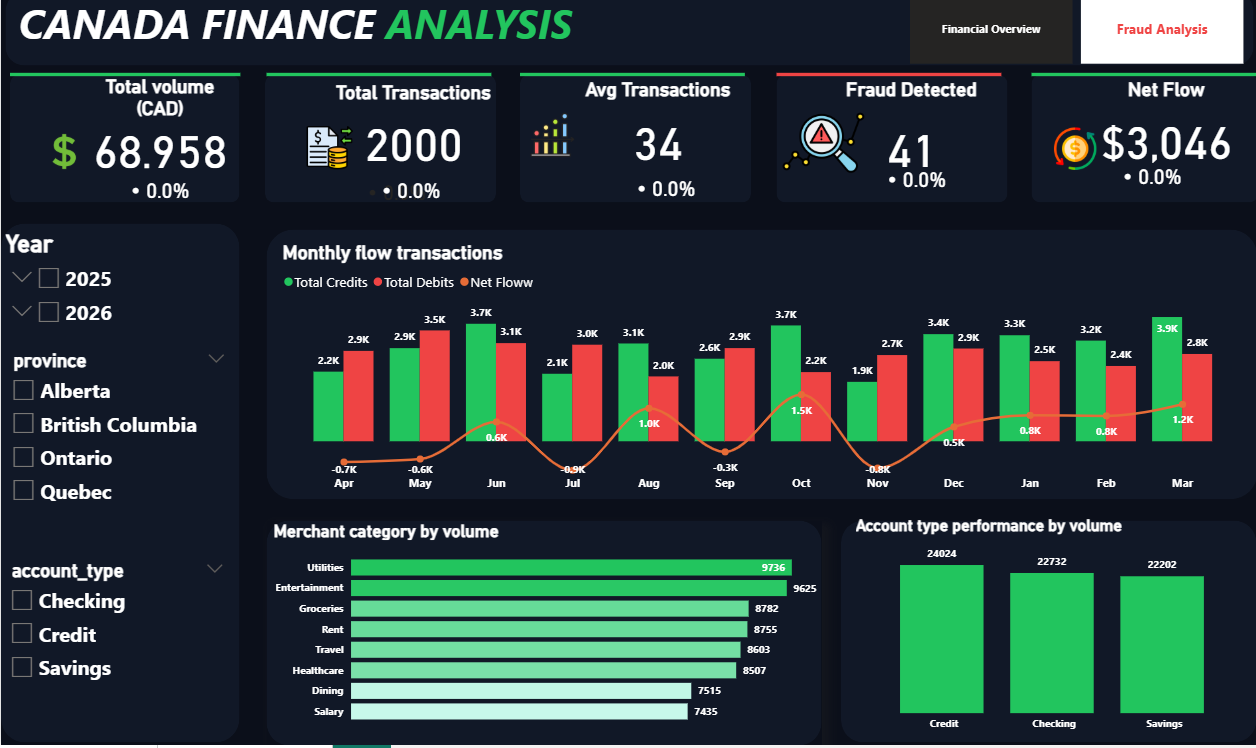

The page's visual inventory and layout, read from the dashboard file:
{"tool":"powerbi","page":{"name":"Financial Overview","canvas":[1500,900],"ordinal":0},"visuals":[{"type":"shape","box":[1002.7,632,496,265],"z":0},{"type":"shape","box":[316.9,632,662.5,268.6],"z":1000},{"type":"shape","box":[316.1,284.3,1183,322.1],"z":2000},{"type":"shape","box":[1230.1,100.3,270.4,152.2],"z":3000},{"type":"shape","box":[925.7,100.3,275.7,152.2],"z":4000},{"type":"shape","box":[619.5,100.3,275.7,152.2],"z":5000},{"type":"shape","box":[315.1,100.3,275.7,152.2],"z":6000},{"type":"shape","box":[10.7,100.3,273.9,152.2],"z":7000},{"type":"shape","box":[6.1,2,1489.7,87],"z":8000},{"type":"textbox","box":[15.9,0,1469.3,87.5],"z":9000},{"type":"card","title":"Total volume (CAD)","fields":{"Values":["public transactions.Total Volume"]},"box":[94.9,100.3,189.8,116.4],"z":10000},{"type":"card","title":"Total Transactions","fields":{"Values":["public transactions.Total Transactions"]},"box":[393.7,107.4,196.8,111.3],"z":11000},{"type":"card","title":"Avg Transactions","fields":{"Values":["public transactions.Avg Transaction"]},"box":[676,103.4,214.7,117.3],"z":12000},{"type":"card","title":"Fraud Detected","fields":{"Values":["public transactions.Fraud Detected"]},"box":[980.2,103.4,214.7,133.2],"z":13000},{"type":"card","title":"Net Flow","fields":{"Values":["public transactions.Net Floww"]},"box":[1284.4,103.4,214.7,115.3],"z":14000},{"type":"clusteredBarChart","title":"Merchant category by volume","fields":{"Y":["public transactions.Total Volume"],"Category":["public transactions.merchant_category"]},"box":[320.5,632,662.5,252.5],"z":15000},{"type":"clusteredColumnChart","title":"Account type performance by volume","fields":{"Y":["public transactions.Total Volume"],"Category":["public transactions.account_type"]},"box":[1015.2,626.7,483.4,265],"z":16000},{"type":"shape","box":[310.2,103.4,262.5,13.9],"z":17000},{"type":"shape","box":[9.9,87.5,275,23.9],"z":18000},{"type":"shape","box":[316.1,87.5,268.4,23.9],"z":19000},{"type":"shape","box":[1230.7,87.5,268.4,23.9],"z":20000},{"type":"shape","box":[620.3,87.5,268.4,23.9],"z":21000},{"type":"shape","box":[926.5,87.5,268.4,23.9],"z":22000},{"type":"lineClusteredColumnComboChart","title":"Monthly flow transactions","fields":{"Y":["public transactions.Total Credits","public transactions.Total Debits"],"Y2":["public transactions.Net Floww"],"Category":["Date Table.FY Month Name"]},"box":[331.2,299,1156.7,308],"z":23000},{"type":"pageNavigator","box":[1085.6,2,399.6,85.5],"z":24000},{"type":"shape","box":[0,277.5,284.7,619.5],"z":25000},{"type":"slicer","title":"Year","fields":{"Values":["Date Table.Year","Date Table.FY Month Name"]},"box":[0,284.7,277.5,137.9],"z":26000},{"type":"slicer","fields":{"Values":["public transactions.province"]},"box":[1.8,422.6,277.5,250.7],"z":27000},{"type":"slicer","fields":{"Values":["public transactions.account_type"]},"box":[0,673.2,277.5,223.8],"z":28000},{"type":"image","box":[39.4,162.9,71.6,57.3],"z":29000},{"type":"image","box":[347.9,153.1,89.5,65.6],"z":30000},{"type":"image","box":[620.3,139.2,77.5,63.6],"z":31000},{"type":"image","box":[1251.6,157.6,60.9,60.9],"z":32000},{"type":"image","box":[926.5,121.3,111.3,119.3],"z":33000},{"type":"card","fields":{"Values":["total transactios.Volume KPI Display"]},"box":[111,220.2,157.6,32.2],"z":33001},{"type":"card","fields":{"Values":["total transactios.transaction KPI Display"]},"box":[393.7,224.7,157.1,31.8],"z":33002},{"type":"card","fields":{"Values":["total transactios.transaction KPI Display"]},"box":[393.7,216.7,190.9,39.8],"z":33003},{"type":"card","fields":{"Values":["total transactios.Avg transaction KPI Display"]},"box":[697.9,216.7,190.9,35.8],"z":33004},{"type":"card","fields":{"Values":["total transactios.Fraud detected KPI Display"]},"box":[1004.1,206.8,177,35.8],"z":33005},{"type":"card","fields":{"Values":["total transactios.net flow KPI Display"]},"box":[1286.4,202.8,177,35.8],"z":33006}]}

Visuals, with their boxes in screenshot pixels (x1, y1, x2, y2), scaled from the page's 1500x900 canvas onto the 1256x748 screenshot:
shape: select_region(840, 525, 1255, 746)
shape: select_region(265, 525, 820, 747)
shape: select_region(265, 236, 1255, 504)
shape: select_region(1030, 83, 1255, 210)
shape: select_region(775, 83, 1006, 210)
shape: select_region(519, 83, 750, 210)
shape: select_region(264, 83, 495, 210)
shape: select_region(9, 83, 238, 210)
shape: select_region(5, 2, 1252, 74)
textbox: select_region(13, 0, 1244, 73)
"Total volume (CAD)" card: select_region(79, 83, 238, 180)
"Total Transactions" card: select_region(330, 89, 494, 182)
"Avg Transactions" card: select_region(566, 86, 746, 183)
"Fraud Detected" card: select_region(821, 86, 1001, 197)
"Net Flow" card: select_region(1075, 86, 1255, 182)
"Merchant category by volume" clusteredBarChart: select_region(268, 525, 823, 735)
"Account type performance by volume" clusteredColumnChart: select_region(850, 521, 1255, 741)
shape: select_region(260, 86, 480, 97)
shape: select_region(8, 73, 239, 93)
shape: select_region(265, 73, 489, 93)
shape: select_region(1031, 73, 1255, 93)
shape: select_region(519, 73, 744, 93)
shape: select_region(776, 73, 1001, 93)
"Monthly flow transactions" lineClusteredColumnComboChart: select_region(277, 249, 1246, 504)
pageNavigator: select_region(909, 2, 1244, 73)
shape: select_region(0, 231, 238, 746)
"Year" slicer: select_region(0, 237, 232, 351)
slicer - public transactions.province: select_region(2, 351, 234, 560)
slicer - public transactions.account_type: select_region(0, 560, 232, 746)
image: select_region(33, 135, 93, 183)
image: select_region(291, 127, 366, 182)
image: select_region(519, 116, 584, 169)
image: select_region(1048, 131, 1099, 182)
image: select_region(776, 101, 869, 200)
card - total transactios.Volume KPI Display: select_region(93, 183, 225, 210)
card - total transactios.transaction KPI Display: select_region(330, 187, 461, 213)
card - total transactios.transaction KPI Display: select_region(330, 180, 490, 213)
card - total transactios.Avg transaction KPI Display: select_region(584, 180, 744, 210)
card - total transactios.Fraud detected KPI Display: select_region(841, 172, 989, 202)
card - total transactios.net flow KPI Display: select_region(1077, 169, 1225, 198)
